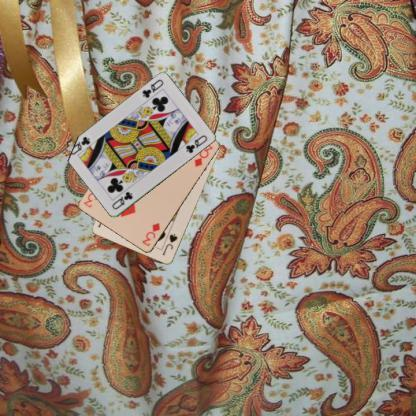3d: (139, 221, 161, 248)
Js: (160, 231, 178, 257)
Qc: (140, 76, 164, 100), (109, 188, 134, 211)
